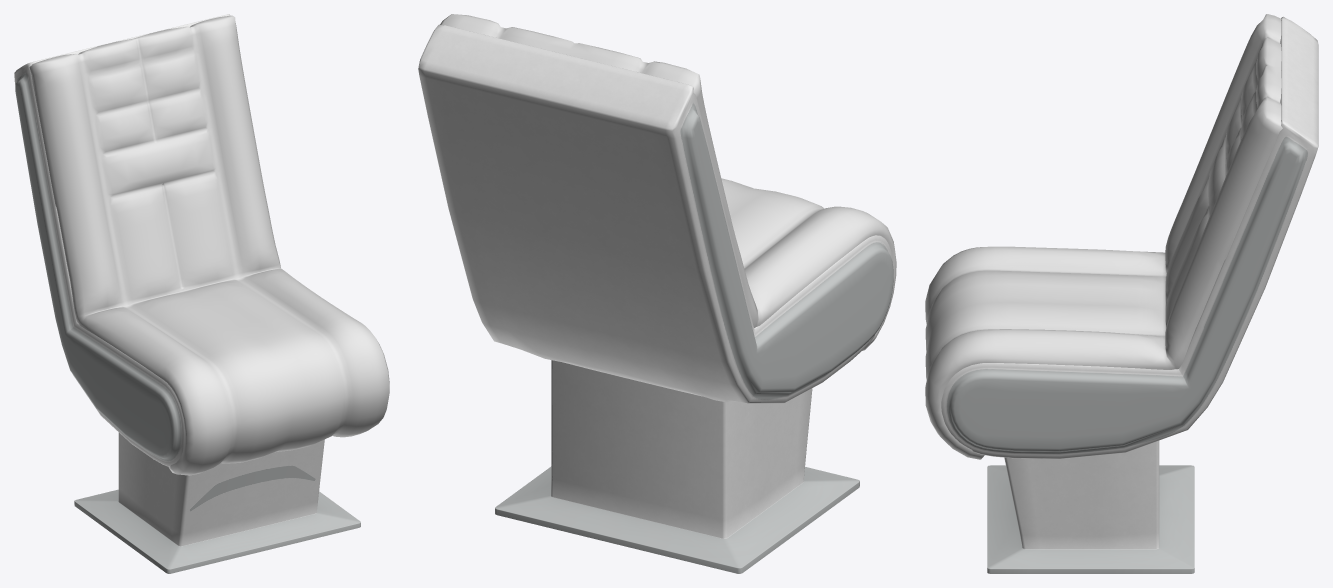
The model's file is Chair04.FBX.
The picture shows the model from 3 angles, left to right: view 1: azimuth 30°, elevation 25°; view 2: azimuth 150°, elevation 25°; view 3: azimuth 270°, elevation 25°; orthographic projection. The views are drawn at different scales.
Parts seen in each view (by area): view 1: Chair04; view 2: Chair04; view 3: Chair04.
Part boxes in pixels (left/top/right/bottom): Chair04: left=14, top=14, right=389, bottom=573; Chair04: left=418, top=14, right=896, bottom=573; Chair04: left=925, top=14, right=1318, bottom=573.
Size of what is drawn, in the model's own units: 0.6172 by 1.15 by 0.8966.
